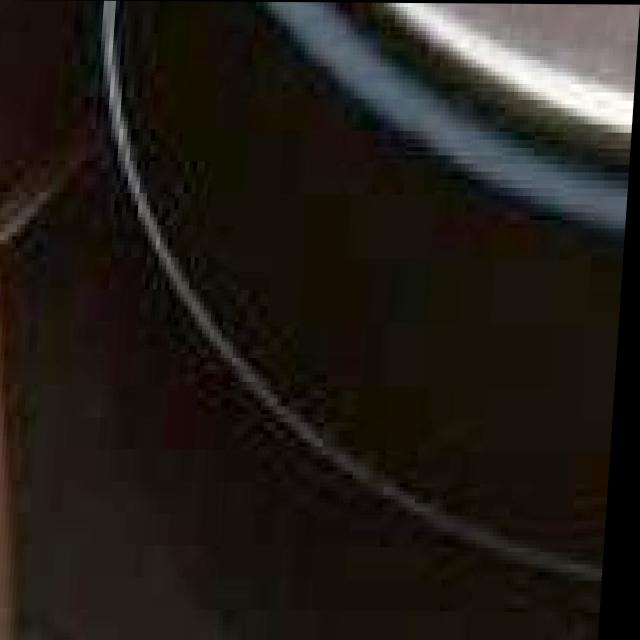battery: (371, 2, 640, 255)
